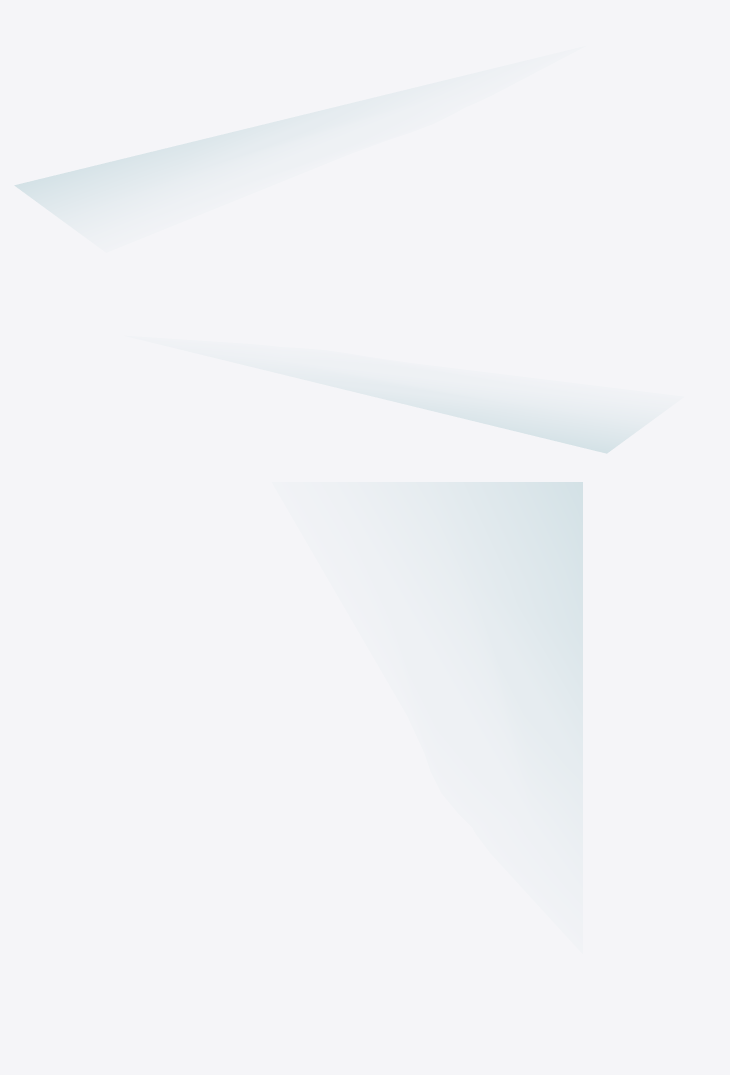
3 renders of one model, top to bottom at view 1: azimuth 30°, elevation 25°; view 2: azimuth 150°, elevation 25°; view 3: azimuth 270°, elevation 25°, orthographic. The views are drawn at different scales.
Visible parts, largest first — view 1: city; view 2: city; view 3: city.
Part boxes in pixels (left/top/right/bottom): city: left=15, top=113, right=310, bottom=212; city: left=362, top=393, right=637, bottom=453; city: left=456, top=482, right=582, bottom=727.
Bounding box in the file's own units: 449 × 0 × 143.
